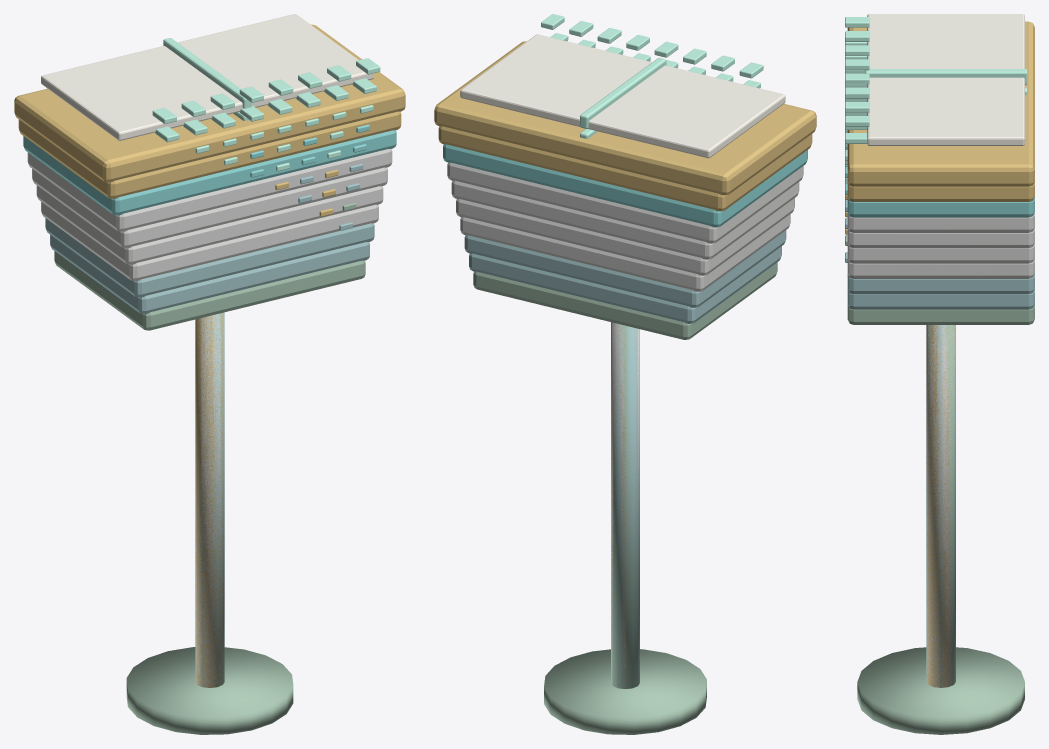
File: Gear01.fbx
The picture shows the model from 3 angles, left to right: view 1: azimuth 30°, elevation 25°; view 2: azimuth 150°, elevation 25°; view 3: azimuth 270°, elevation 25°; orthographic projection. The views are drawn at different scales.
Parts seen in each view (by area): view 1: Gear01_V10_Linen, Gear01_V1_Sage, Gear01_V10_Gold, Gear01_V9_Gold, Gear01_V4_Chrome, Gear01_V5_Chrome, Gear01_V3_Blue, Gear01_V7_Chrome, Gear01_V6_Chrome, Gear01_V2_Blue, Gear01_V8_Aqua, Gear01_V10_Glow (+2 smaller); view 2: Gear01_V1_Sage, Gear01_V10_Linen, Gear01_V10_Gold, Gear01_V2_Blue, Gear01_V3_Blue, Gear01_V5_Chrome, Gear01_V4_Chrome, Gear01_V7_Chrome, Gear01_V6_Chrome, Gear01_V9_Gold, Gear01_V8_Aqua, Gear01_V10_Glow (+1 smaller); view 3: Gear01_V10_Linen, Gear01_V1_Sage, Gear01_V10_Gold, Gear01_V4_Chrome, Gear01_V5_Chrome, Gear01_V7_Chrome, Gear01_V2_Blue, Gear01_V6_Chrome, Gear01_V3_Blue, Gear01_V9_Gold, Gear01_V10_Glow, Gear01_V8_Aqua (+2 smaller).
Part boxes in pixels (x1,y1,x2,y2): Gear01_V10_Linen: (41, 14, 373, 140); Gear01_V1_Sage: (54, 251, 365, 734); Gear01_V10_Gold: (14, 24, 405, 687); Gear01_V9_Gold: (18, 111, 401, 684); Gear01_V4_Chrome: (41, 202, 378, 687); Gear01_V5_Chrome: (36, 185, 383, 686); Gear01_V3_Blue: (45, 218, 374, 684); Gear01_V7_Chrome: (27, 149, 392, 687); Gear01_V6_Chrome: (32, 167, 387, 683); Gear01_V2_Blue: (50, 222, 369, 686); Gear01_V8_Aqua: (23, 130, 396, 215); Gear01_V10_Glow: (152, 38, 380, 123); Gear01_V1_Sage: (473, 262, 777, 734); Gear01_V10_Linen: (460, 34, 785, 158); Gear01_V10_Gold: (434, 41, 816, 688); Gear01_V2_Blue: (469, 246, 781, 688); Gear01_V3_Blue: (464, 230, 786, 687); Gear01_V5_Chrome: (456, 198, 794, 685); Gear01_V4_Chrome: (460, 214, 790, 685); Gear01_V7_Chrome: (447, 162, 803, 678); Gear01_V6_Chrome: (451, 180, 799, 667); Gear01_V9_Gold: (438, 126, 812, 669); Gear01_V8_Aqua: (443, 144, 807, 227); Gear01_V10_Glow: (541, 14, 763, 128); Gear01_V10_Linen: (867, 14, 1024, 145); Gear01_V1_Sage: (847, 304, 1034, 734); Gear01_V10_Gold: (847, 21, 1034, 687); Gear01_V4_Chrome: (847, 258, 1034, 687); Gear01_V5_Chrome: (847, 243, 1034, 687); Gear01_V7_Chrome: (847, 212, 1034, 686); Gear01_V2_Blue: (845, 252, 1034, 684); Gear01_V6_Chrome: (847, 227, 1034, 687); Gear01_V3_Blue: (847, 273, 1034, 685); Gear01_V9_Gold: (847, 181, 1034, 686); Gear01_V10_Glow: (845, 17, 1027, 126); Gear01_V8_Aqua: (847, 197, 1034, 217).
Size of the model in its own units: 70.72 by 143 by 38.5.
